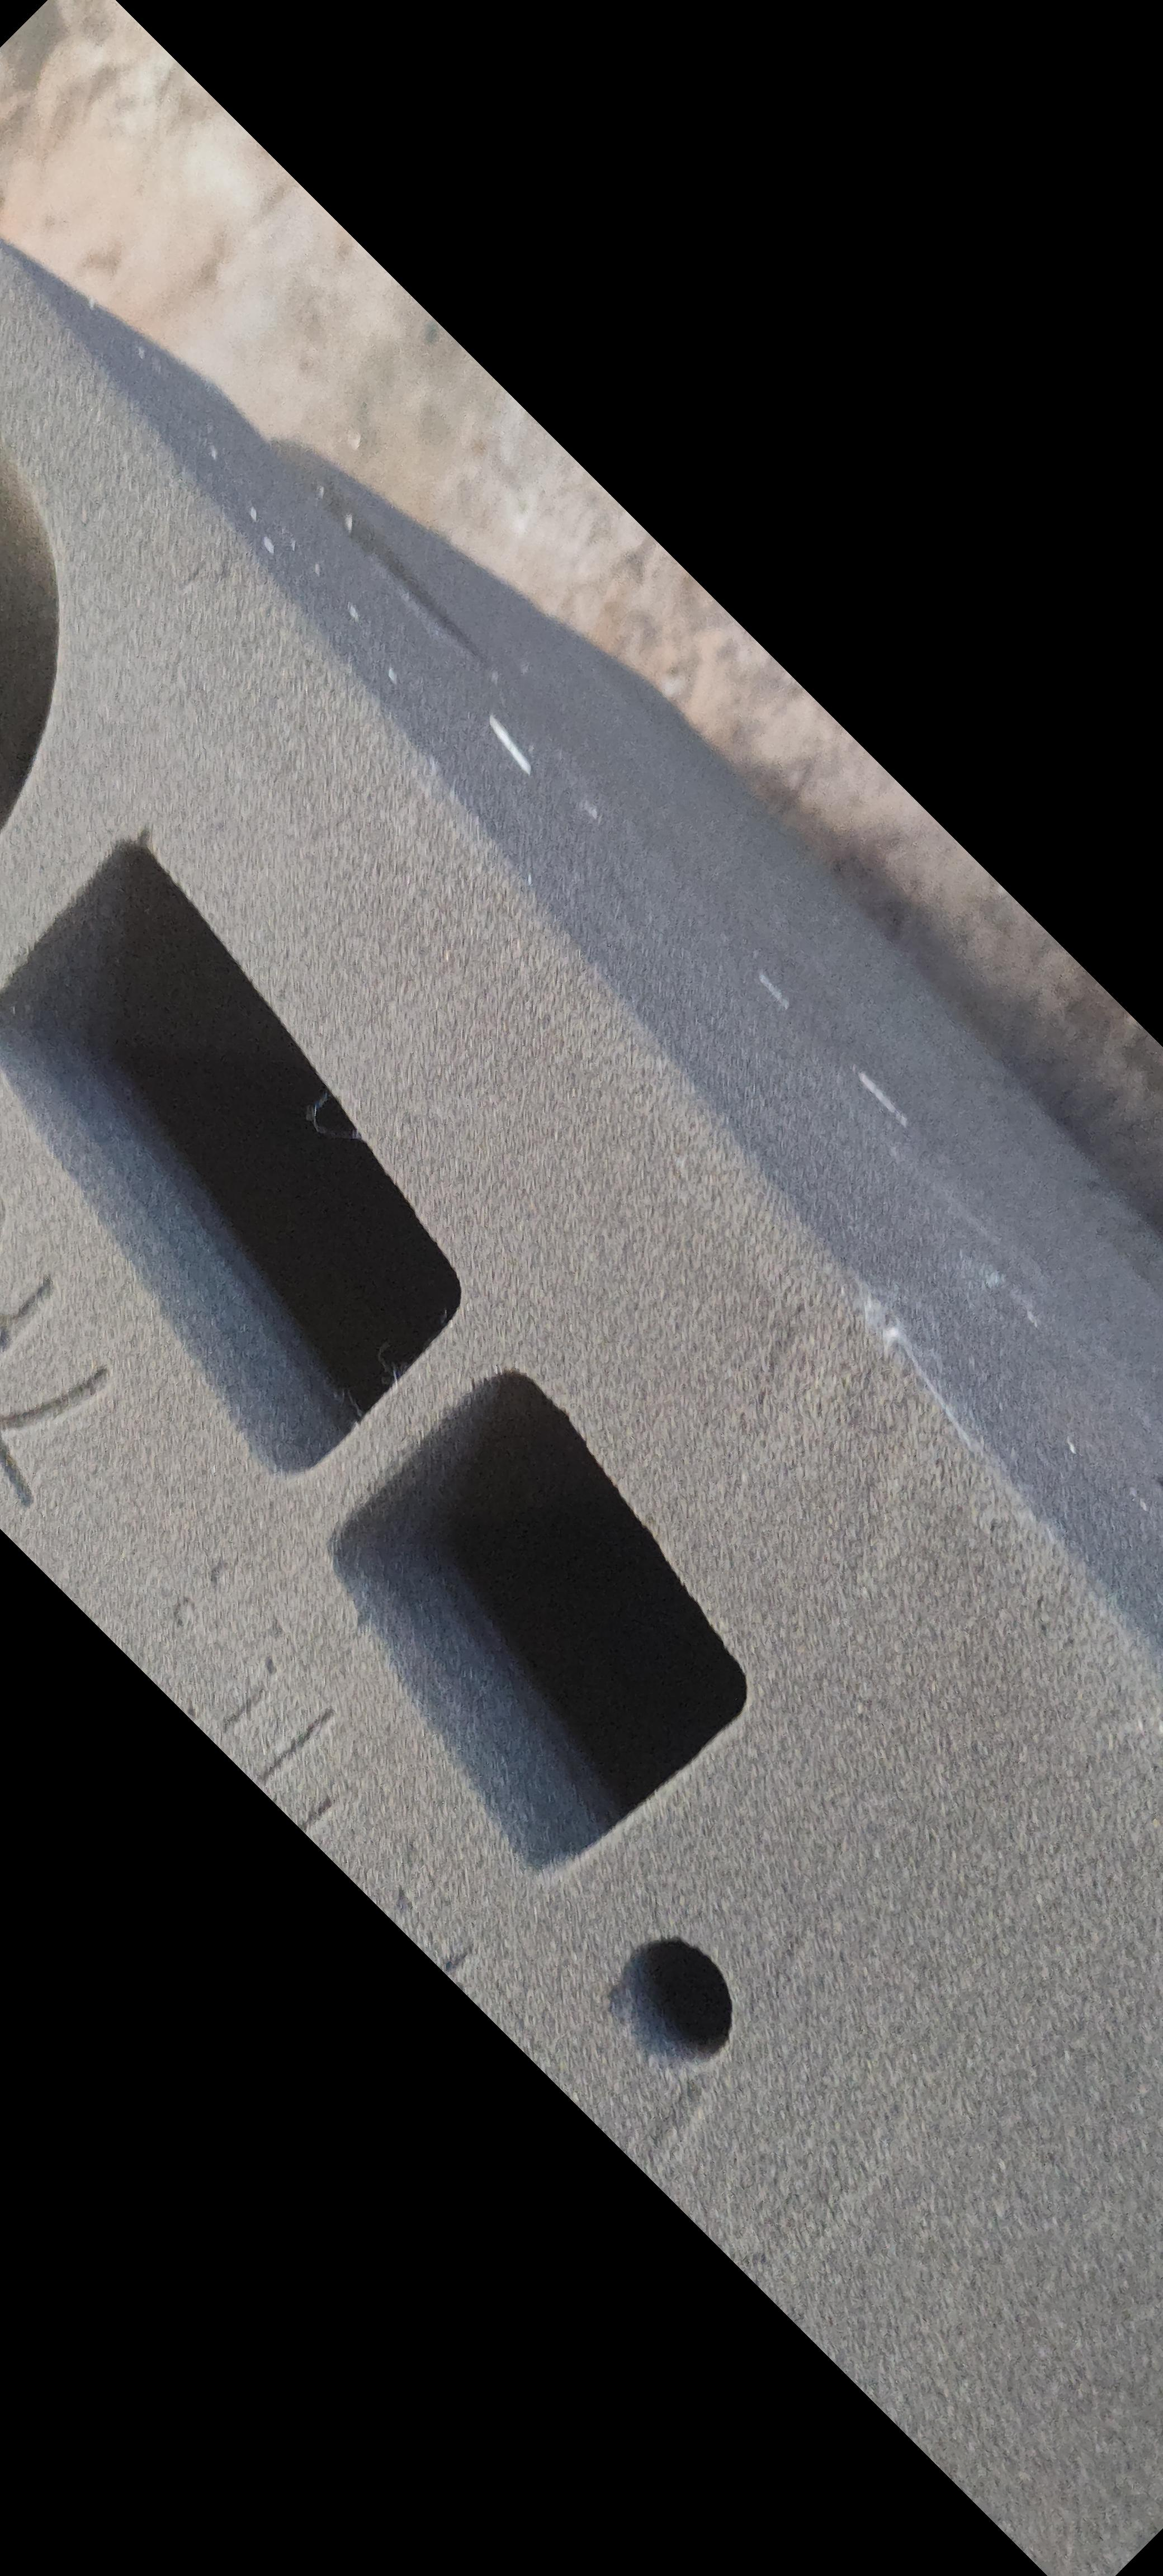pouring hole: (0, 426, 62, 849)
